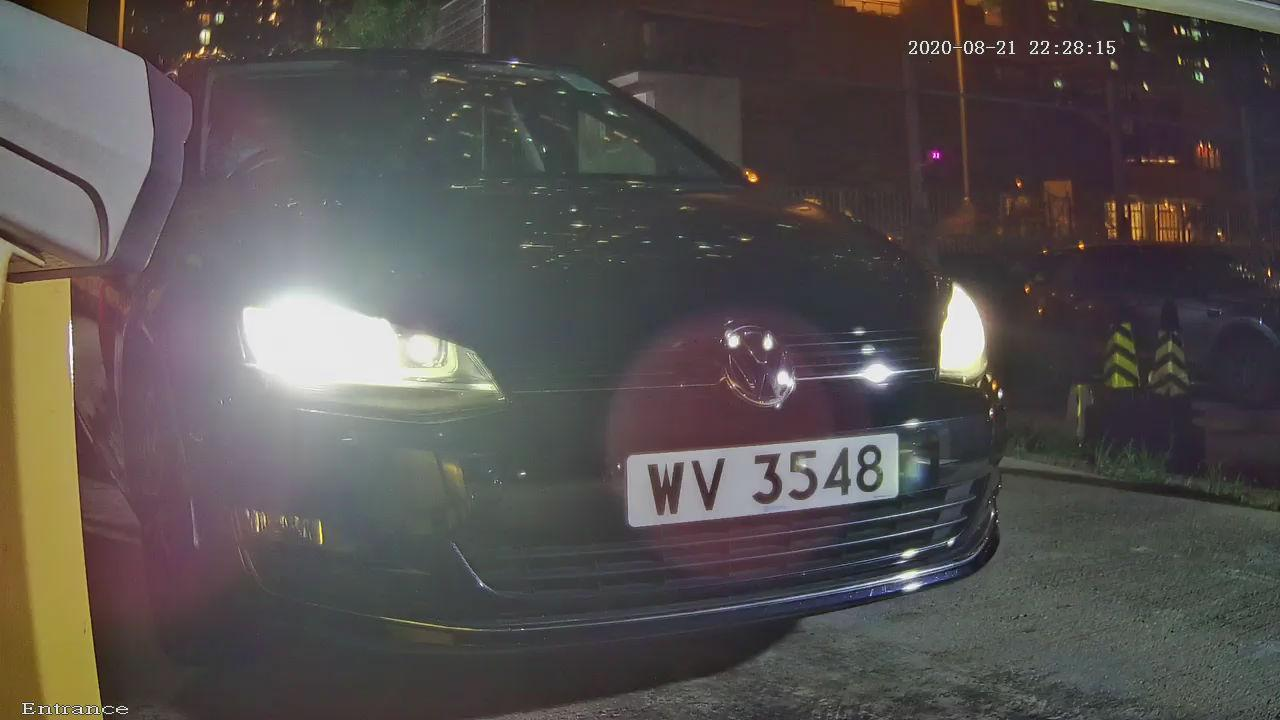Car: (23, 13, 1098, 685)
License Plate: (577, 390, 954, 558)
